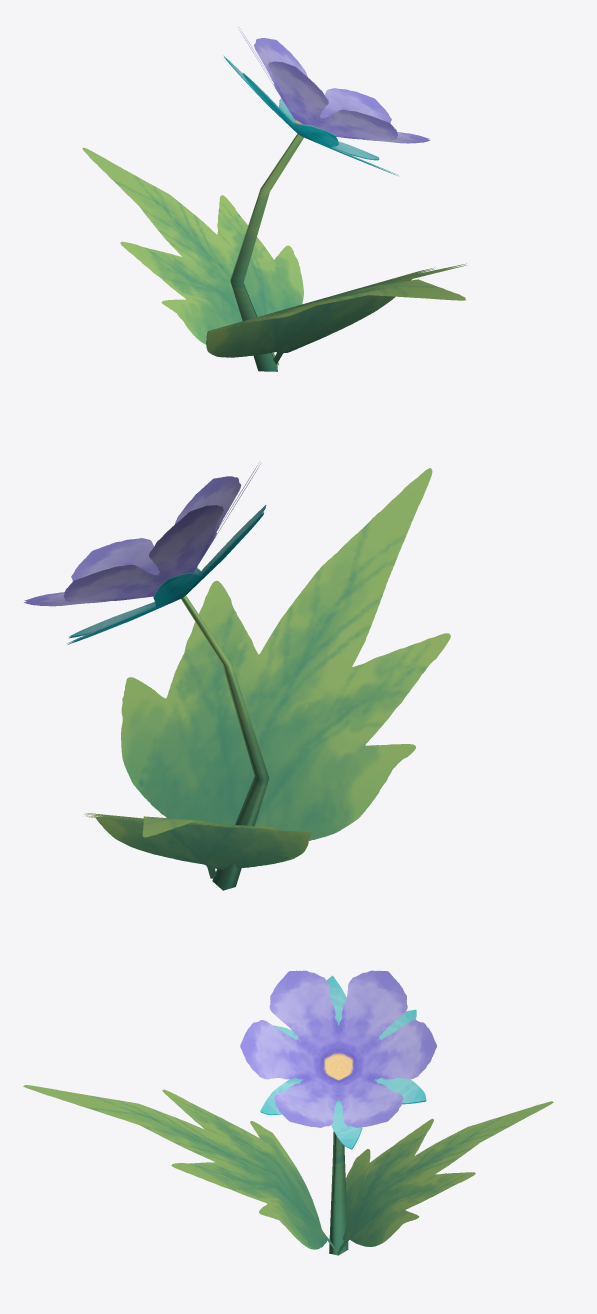
Rendered from Asset_FleurA_01.fbx.
The picture shows the model from 3 angles, top to bottom: view 1: azimuth 30°, elevation 25°; view 2: azimuth 150°, elevation 25°; view 3: azimuth 270°, elevation 25°; orthographic projection. The views are drawn at different scales.
Visible parts, largest first — view 1: Asset_FleurA_01; view 2: Asset_FleurA_01; view 3: Asset_FleurA_01.
Boxes of the visible parts, x1=… form: Asset_FleurA_01: x1=82, y1=27, x2=467, y2=371; Asset_FleurA_01: x1=24, y1=463, x2=450, y2=890; Asset_FleurA_01: x1=23, y1=970, x2=553, y2=1255.
Size of the model in its own units: 138 by 151 by 262.
Materials: 1 (1 with a texture image).
